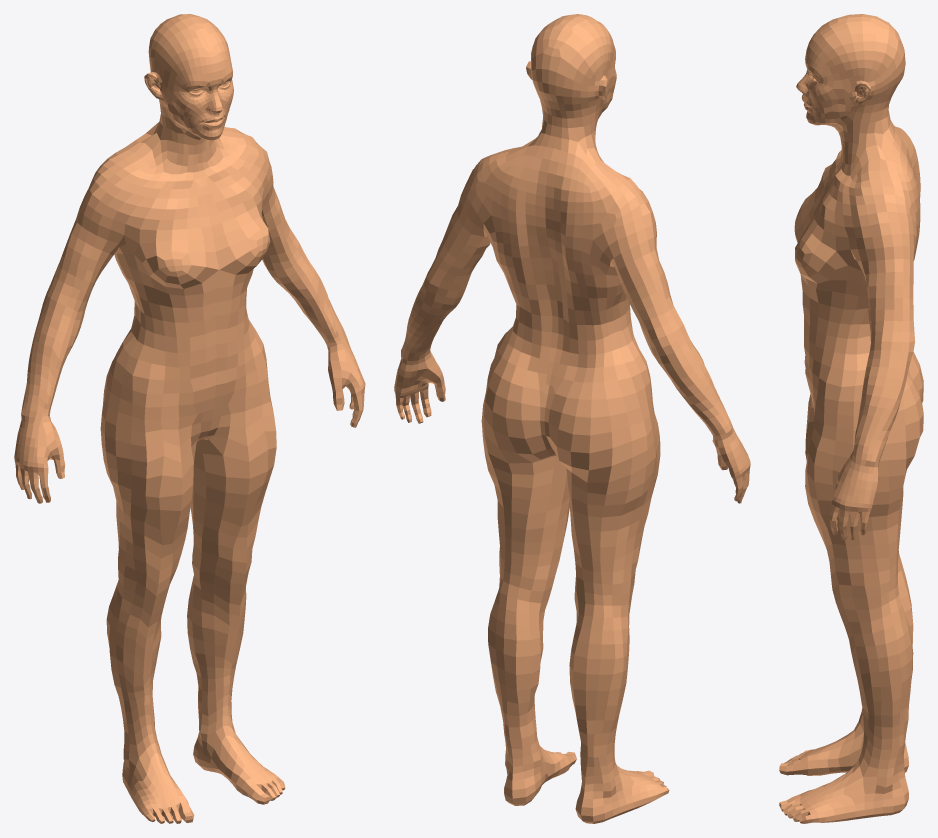
Rendered from minwaist.obj.
The picture shows the model from 3 angles, left to right: view 1: azimuth 30°, elevation 25°; view 2: azimuth 150°, elevation 25°; view 3: azimuth 270°, elevation 25°; orthographic projection.
Size of the model in its own units: 0.7722 by 1.66 by 0.2797.
